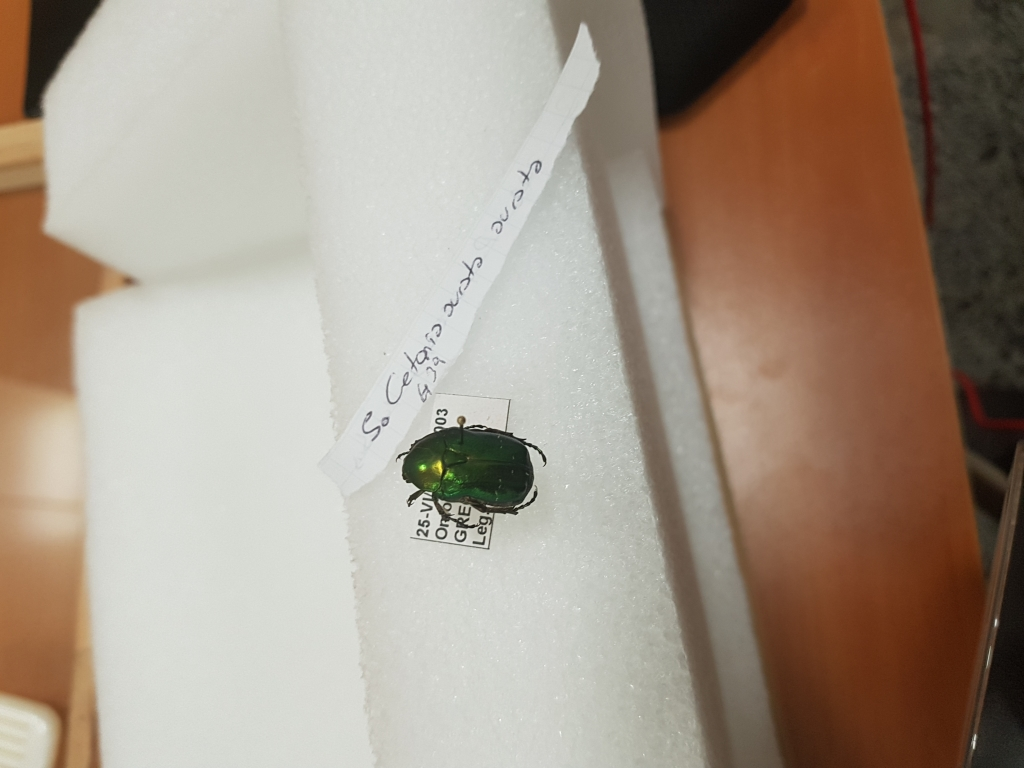Cetonia_aurata: (398, 428, 552, 533)
